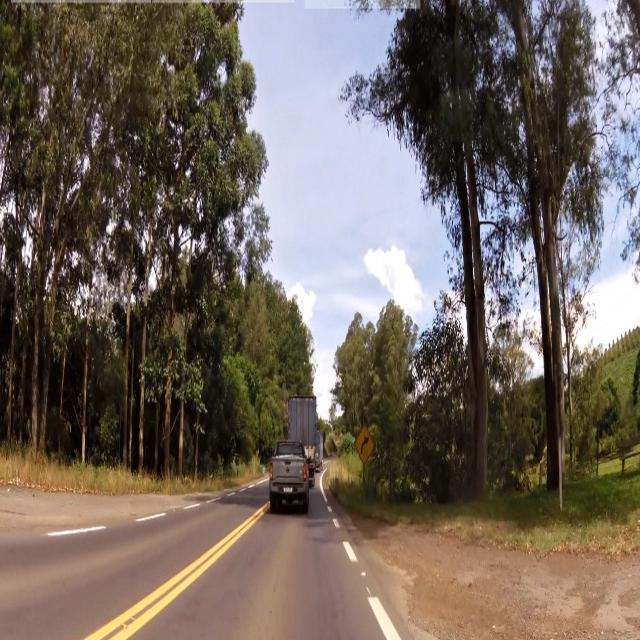A-2b: (357, 428, 376, 463)
